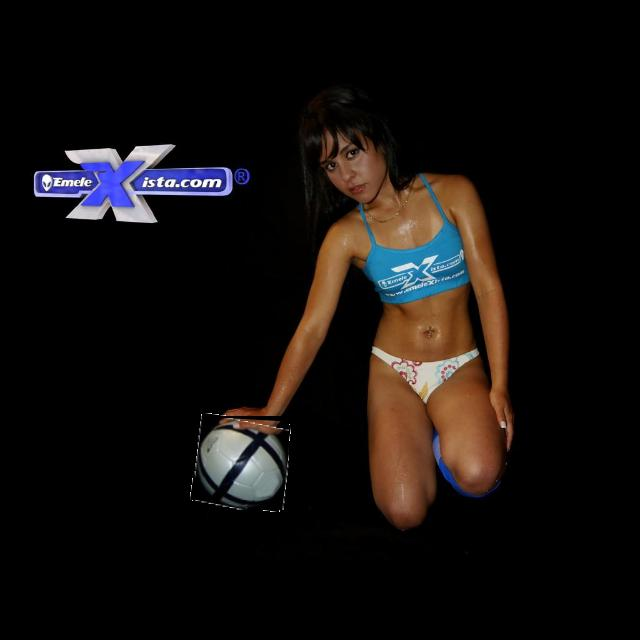Football: (193, 416, 289, 510)
